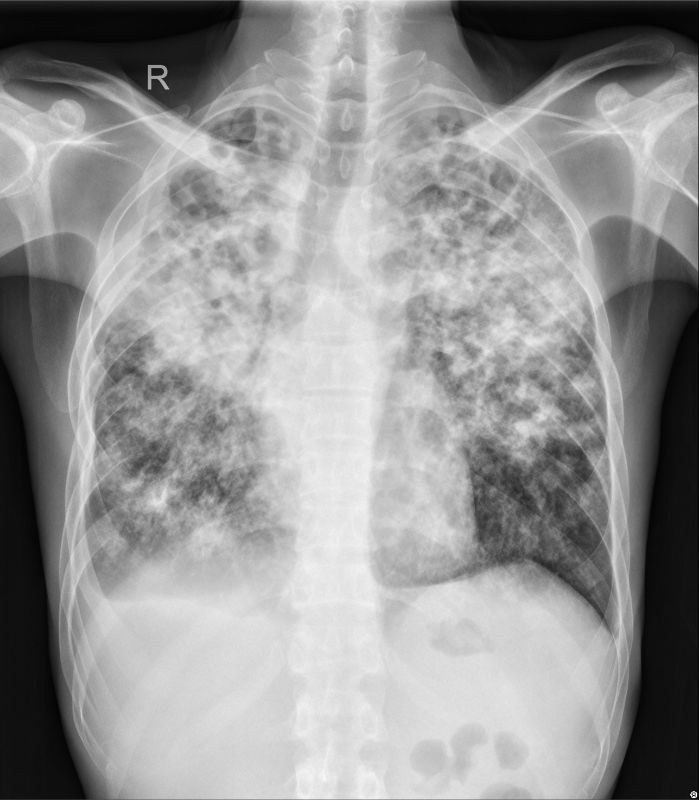Tuberculosis: (97, 143, 284, 531), (432, 199, 594, 459)
